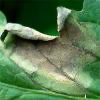Tomato leaf late blight: (2, 6, 99, 99)
